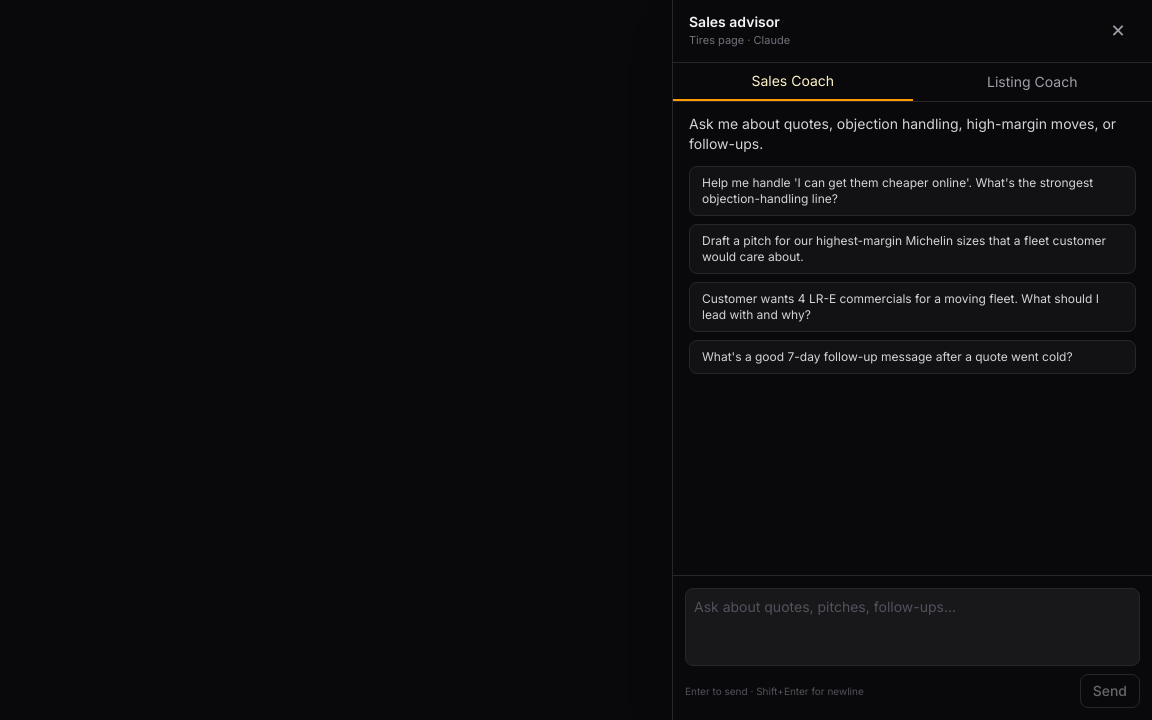
it: SalesAdvisorDrawer › clicking the listing tab swaps the visible content
The image size is (1152, 720).
Click the tab with test id "tab-listing".
click(1032, 82)  # box [912,63,1151,101]
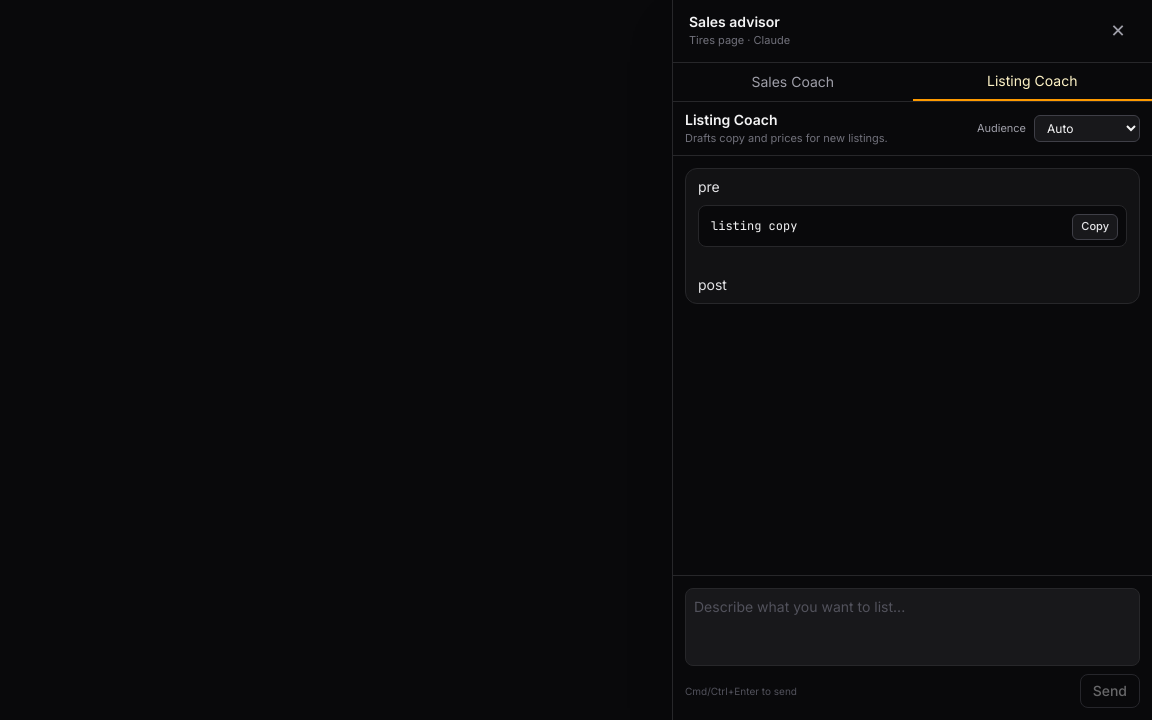
Now the button with test id "copy-listing" is shown, box [1072,214,1118,240]
